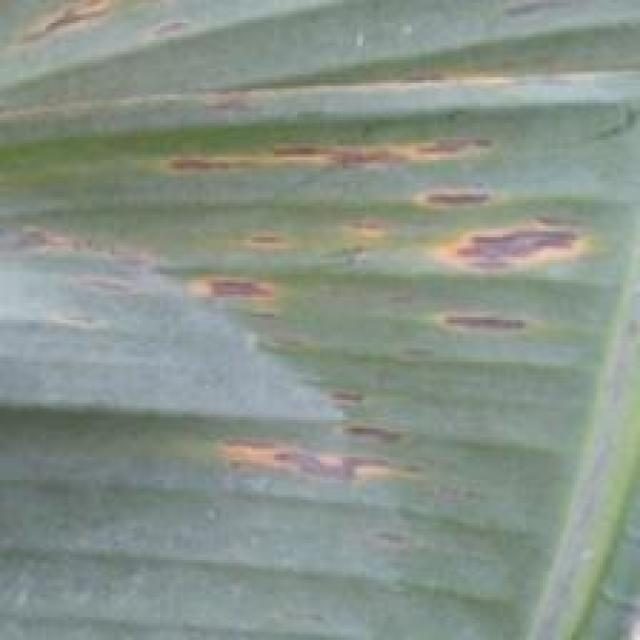Early_leaf_spot: (157, 119, 522, 223), (202, 356, 425, 512), (400, 202, 596, 288), (175, 237, 322, 332), (0, 200, 146, 283), (414, 280, 568, 357), (357, 43, 554, 101), (12, 1, 136, 64)
